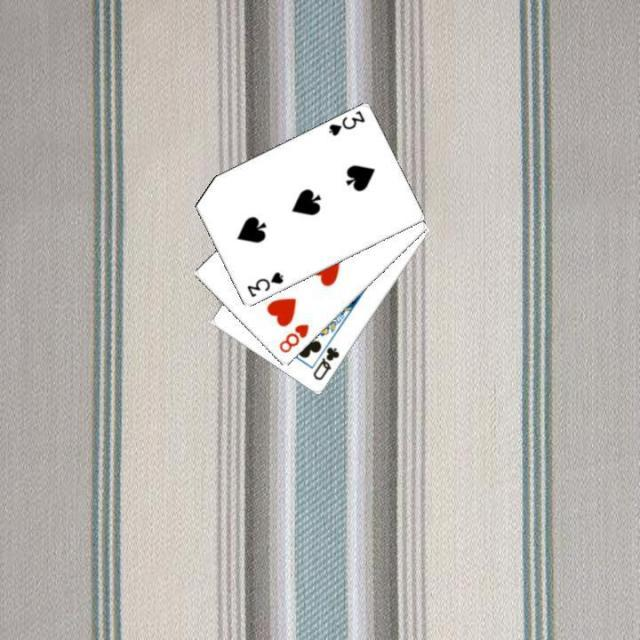3S: (242, 268, 286, 300), (324, 106, 366, 138)
8H: (274, 321, 312, 355)
QC: (308, 343, 342, 382)
